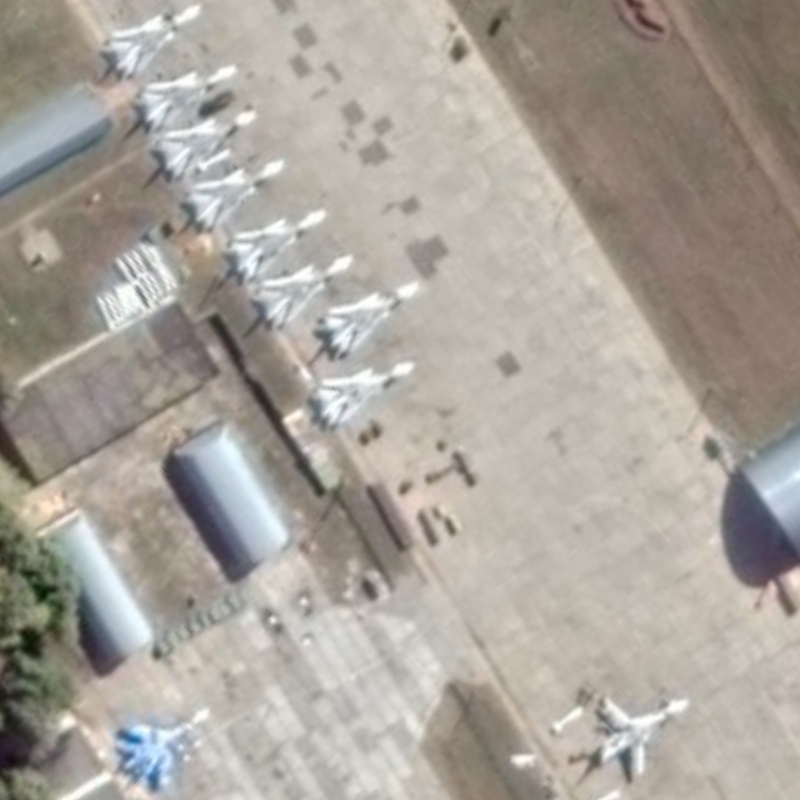A1: (116, 705, 212, 791)
A20: (591, 691, 691, 780), (322, 279, 422, 356), (256, 252, 356, 328), (157, 108, 259, 180), (231, 207, 329, 281), (313, 359, 418, 428), (108, 2, 204, 77), (189, 157, 287, 230), (139, 62, 239, 128)
